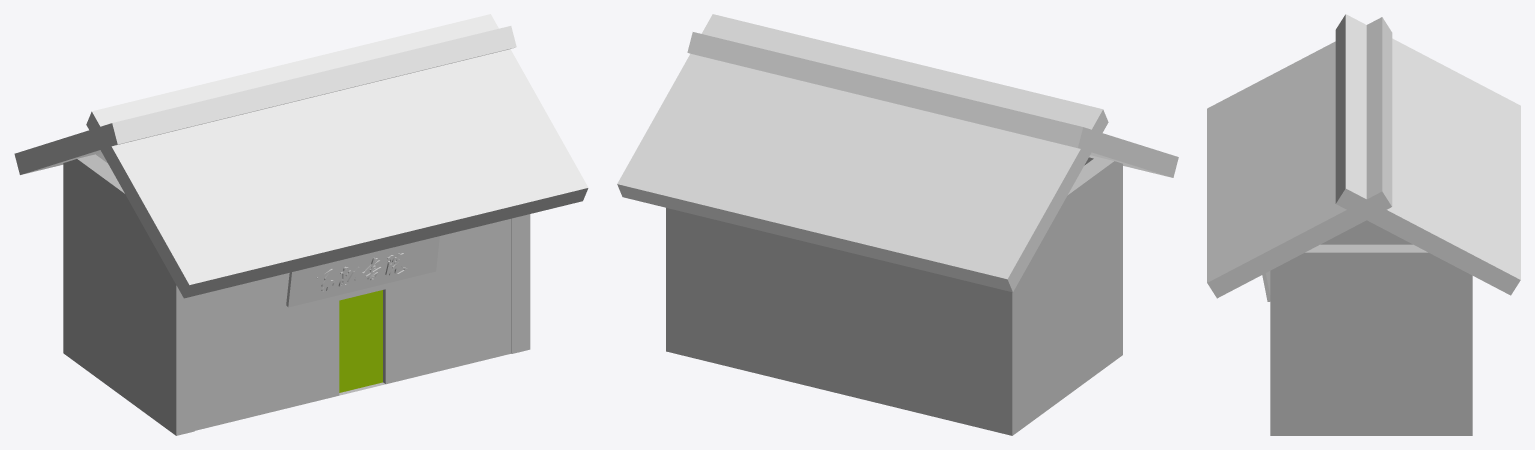
File: 万松书院.fbx
3 renders of one model, left to right at view 1: azimuth 30°, elevation 25°; view 2: azimuth 150°, elevation 25°; view 3: azimuth 270°, elevation 25°, orthographic. The views are drawn at different scales.
Visible parts, largest first — view 1: 屋顶, 墙, 木牌子, 挤压_1; view 2: 屋顶, 墙; view 3: 屋顶, 墙.
Boxes of the visible parts, x1,y1,x2,y2 form: 屋顶: (14,14,588,298); 墙: (63,153,530,435); 木牌子: (286,236,439,307); 挤压_1: (316,253,407,291); 屋顶: (617,14,1178,292); 墙: (666,155,1122,435); 屋顶: (1207,14,1520,298); 墙: (1270,220,1472,435).
Bounding box in the file's own units: 408 × 281 × 310.
